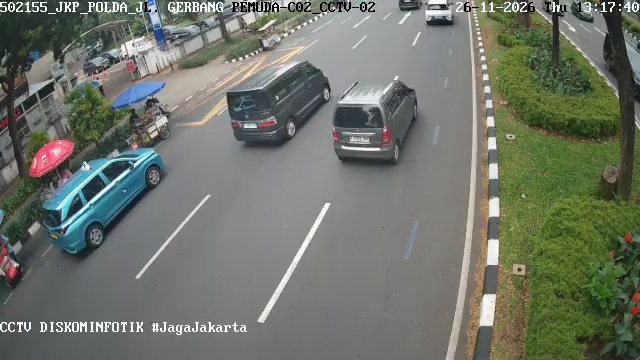Gerobak: (125, 111, 172, 145)
